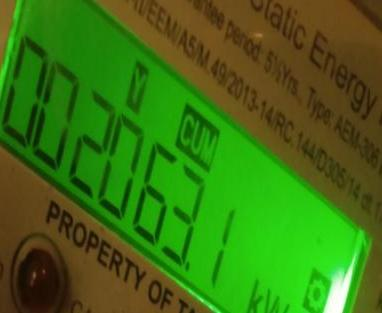.: (245, 276, 296, 313)
0: (181, 259, 192, 275)
1: (0, 32, 50, 148), (33, 61, 83, 170), (106, 115, 147, 220)
2: (207, 204, 239, 288)
3: (69, 88, 118, 199)
4: (161, 165, 206, 263)
7: (133, 142, 176, 246)
